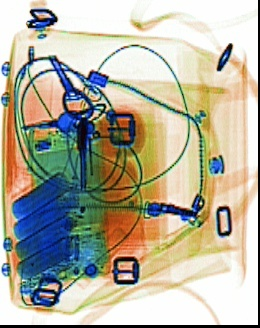powerbank: (8, 164, 80, 294)
